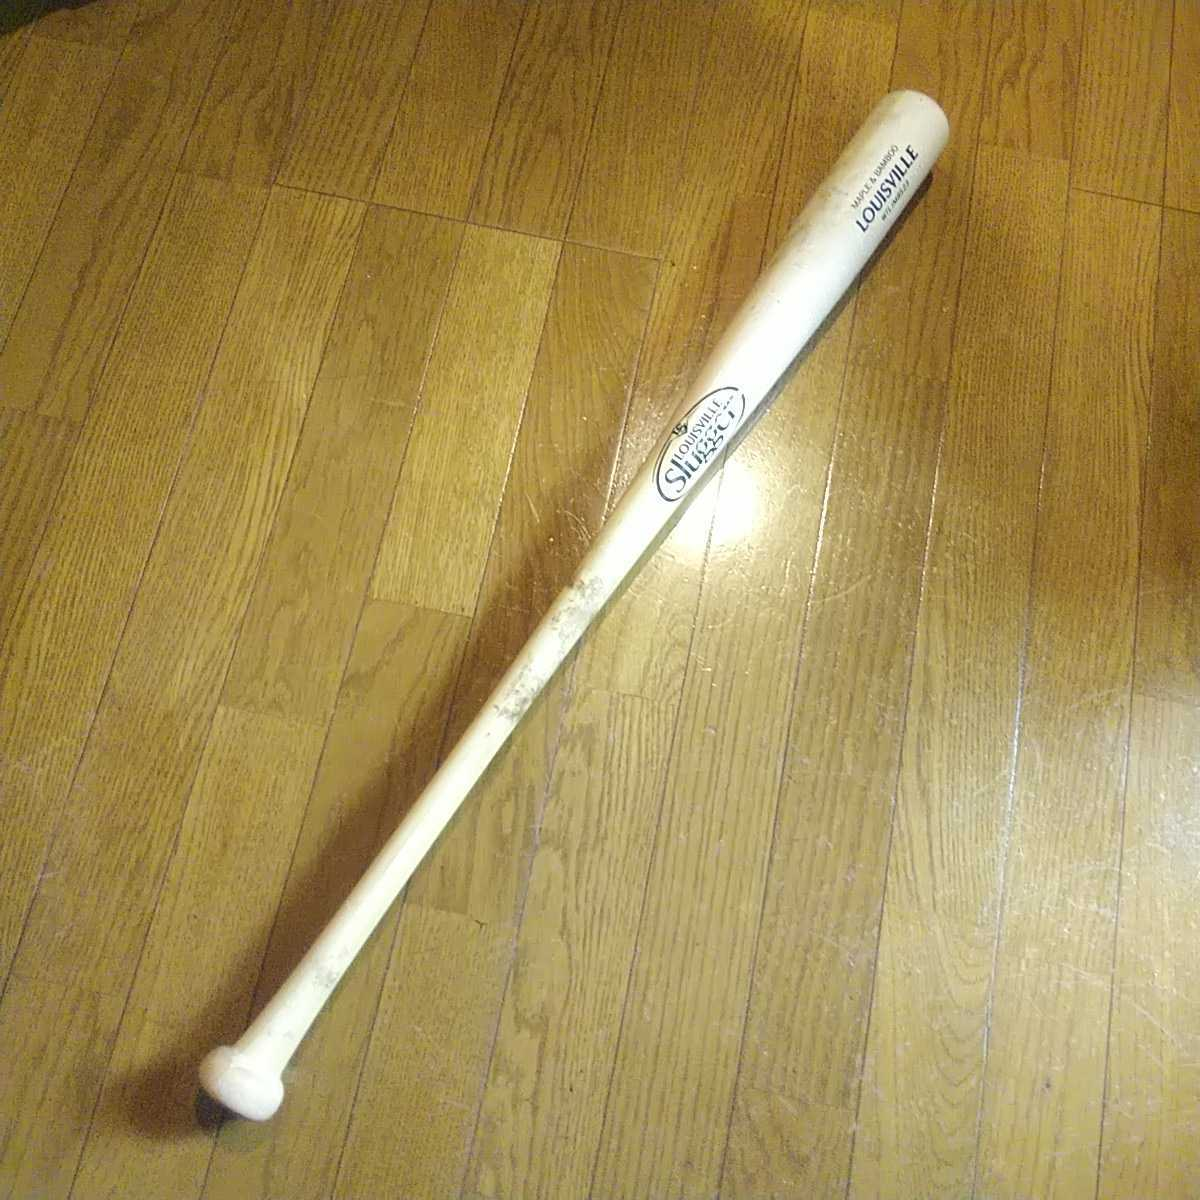bat: (193, 82, 953, 1126)
